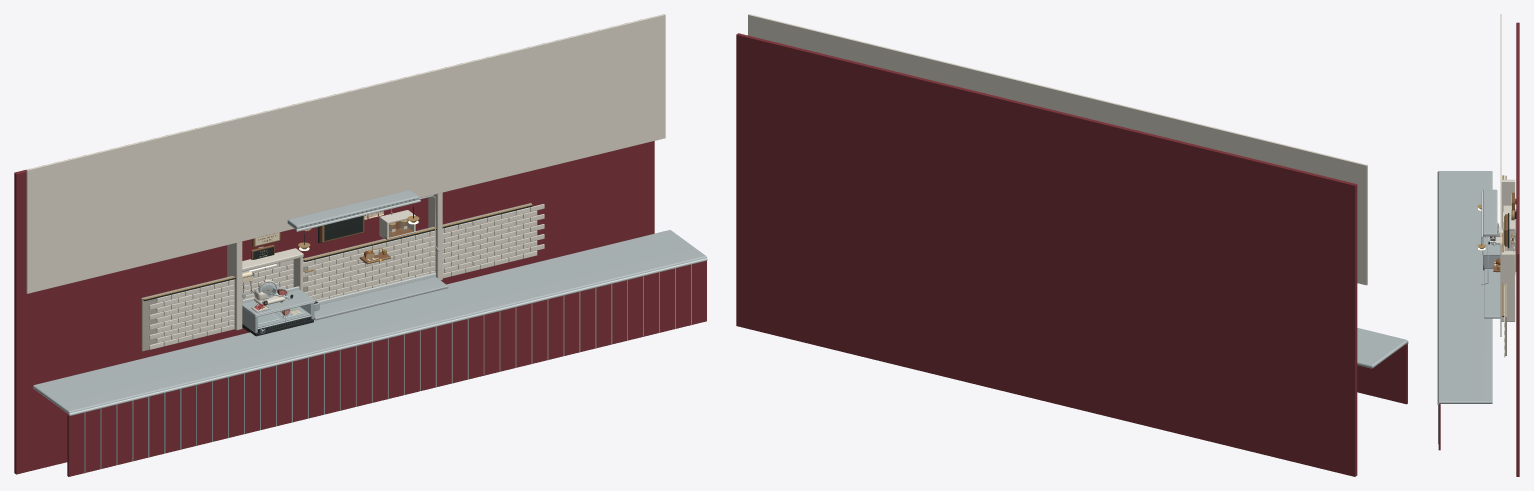
File: kitchen-new-york.glb
3 renders of one model, left to right at view 1: azimuth 30°, elevation 25°; view 2: azimuth 150°, elevation 25°; view 3: azimuth 270°, elevation 25°, orthographic. The views are drawn at different scales.
Parts seen in each view (by area): view 1: Fixed Deli warm ceramic.003, Fixed Oxblood painted plaster, Fixed Satin stainless steel.009, Fixed Polished rolled steel.006, Fixed Deli warm grout, Long shallow canopy, Fixed Deli tile variation, Fixed Satin stainless steel.005; view 2: Fixed Oxblood painted plaster, Fixed Deli warm ceramic.003, Fixed Satin stainless steel.009; view 3: Fixed Satin stainless steel.009, Fixed Deli warm ceramic.003, Fixed Oxblood painted plaster, Long shallow canopy, Fixed Satin stainless steel.005, Fixed Deli warm grout, Fixed Polished rolled steel.006, Fixed Deli aged brass.006.
Part boxes in pixels (bbox=[...]): Fixed Deli warm ceramic.003: bbox=[26, 14, 665, 346]; Fixed Oxblood painted plaster: bbox=[14, 141, 706, 476]; Fixed Satin stainless steel.009: bbox=[33, 195, 706, 472]; Fixed Polished rolled steel.006: bbox=[69, 258, 707, 415]; Fixed Deli warm grout: bbox=[141, 203, 532, 351]; Long shallow canopy: bbox=[287, 190, 418, 229]; Fixed Deli tile variation: bbox=[149, 207, 537, 349]; Fixed Satin stainless steel.005: bbox=[242, 290, 315, 332]; Fixed Oxblood painted plaster: bbox=[736, 33, 1407, 476]; Fixed Deli warm ceramic.003: bbox=[748, 14, 1367, 285]; Fixed Satin stainless steel.009: bbox=[1357, 328, 1407, 368]; Fixed Satin stainless steel.009: bbox=[1438, 171, 1500, 444]; Fixed Deli warm ceramic.003: bbox=[1500, 14, 1515, 355]; Fixed Oxblood painted plaster: bbox=[1438, 22, 1519, 476]; Long shallow canopy: bbox=[1483, 189, 1497, 236]; Fixed Satin stainless steel.005: bbox=[1483, 236, 1502, 268]; Fixed Deli warm grout: bbox=[1505, 175, 1516, 355]; Fixed Polished rolled steel.006: bbox=[1437, 172, 1438, 404]; Fixed Deli aged brass.006: bbox=[1502, 175, 1504, 315].
Size of the model in its own units: 40 by 18.7 by 6.03.
